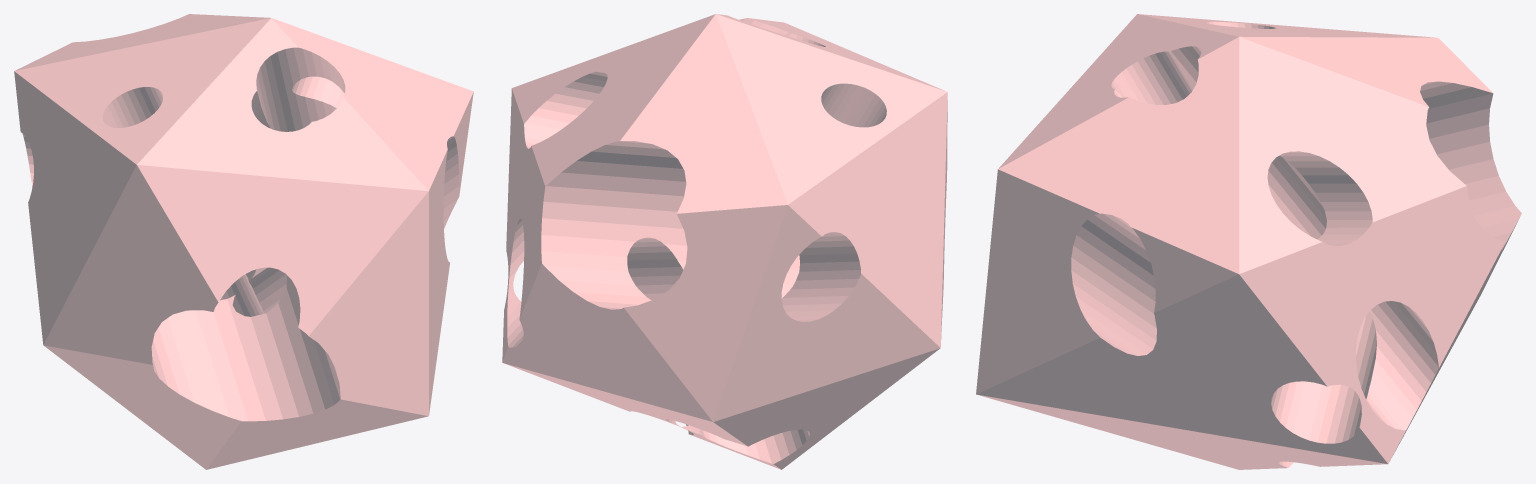
The model's file is rock.fbx.
The picture shows the model from 3 angles, left to right: view 1: azimuth 30°, elevation 25°; view 2: azimuth 150°, elevation 25°; view 3: azimuth 270°, elevation 25°; orthographic projection. The views are drawn at different scales.
Parts seen in each view (by area): view 1: Icosphere; view 2: Icosphere; view 3: Icosphere.
Boxes of the visible parts, left/top/right/bottom form: Icosphere: left=14, top=14, right=473, bottom=469; Icosphere: left=502, top=14, right=947, bottom=469; Icosphere: left=976, top=14, right=1521, bottom=469.
Size of the model in its own units: 250 by 243 by 236.
